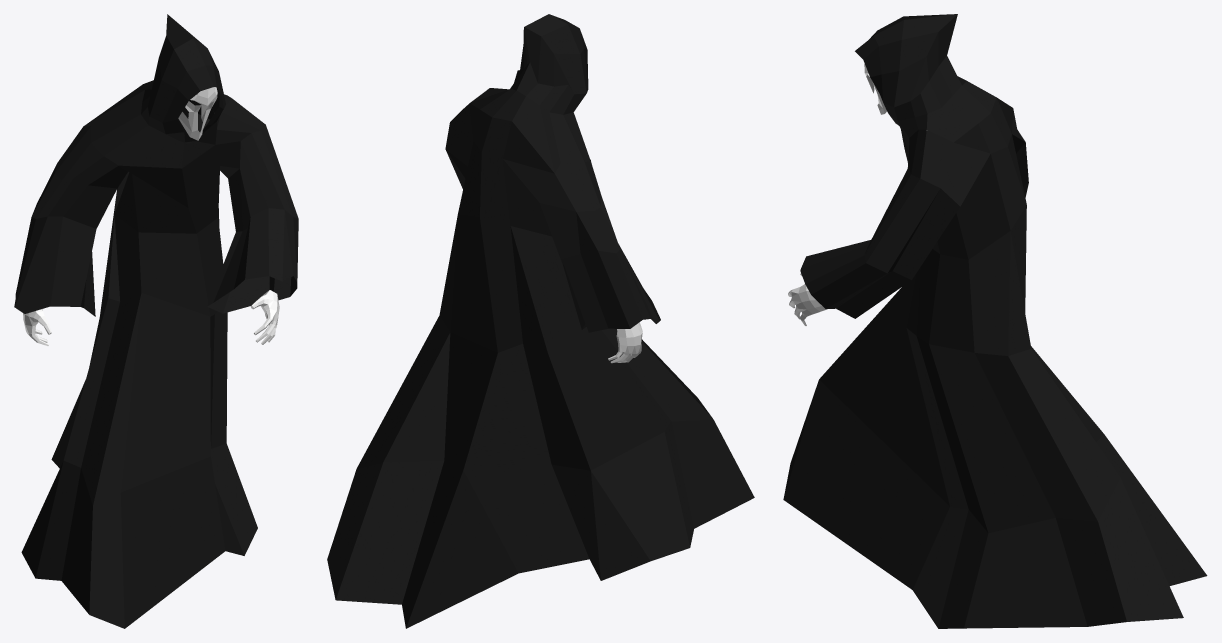
Rendered from ReaperWalk(23).obj.
3 views of the same model, side by side, from view 1: azimuth 30°, elevation 25°; view 2: azimuth 150°, elevation 25°; view 3: azimuth 270°, elevation 25° (orthographic). The views are drawn at different scales.
Visible parts, largest first — view 1: Plane003; view 2: Plane003; view 3: Plane003.
Boxes of the visible parts, bbox=[...] form: Plane003: bbox=[14, 14, 298, 628]; Plane003: bbox=[327, 14, 754, 628]; Plane003: bbox=[783, 14, 1207, 628].
Size of the model in its own units: 114 by 215 by 143.
